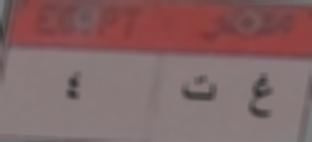4: (60, 63, 85, 115)
ghayn: (244, 65, 277, 128)
taa: (178, 67, 219, 113)
